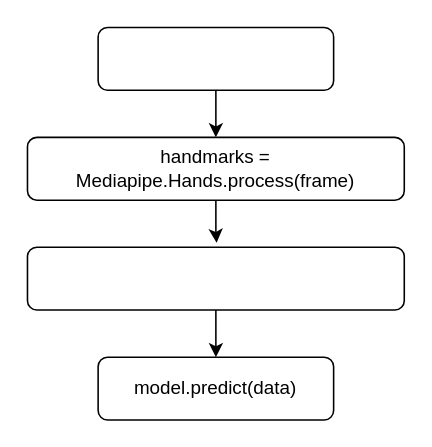
This 432x447 diagram has some shape labels left out. Each missing label, with the box of its shape:
data = [flatten_handmarks[i] for i in permutation_key]: (26, 246, 404, 310)
OpenCV.VideoCapture: (97, 26, 334, 90)
